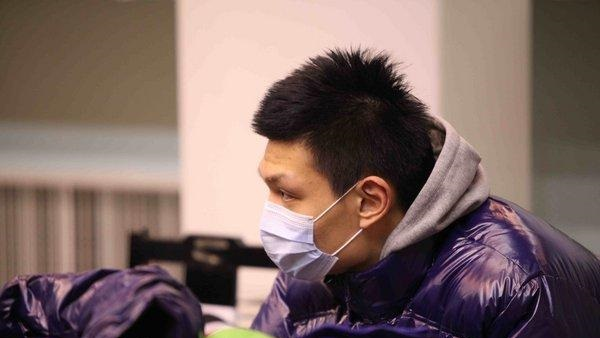face_mask: (244, 137, 366, 273)
